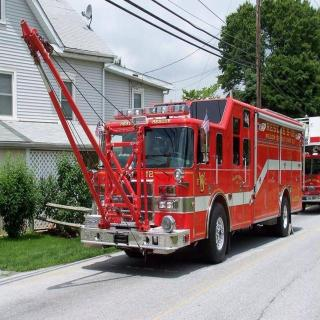Fire_truck: (18, 18, 306, 264), (293, 114, 320, 212)
